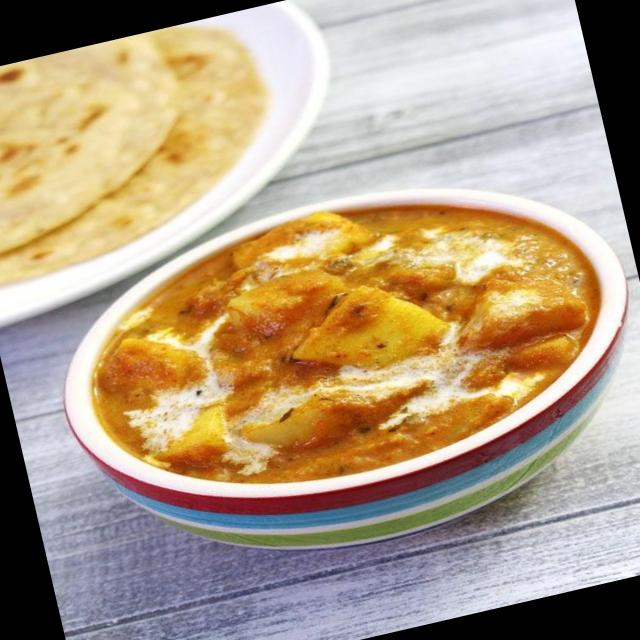roti: (0, 31, 223, 212)
